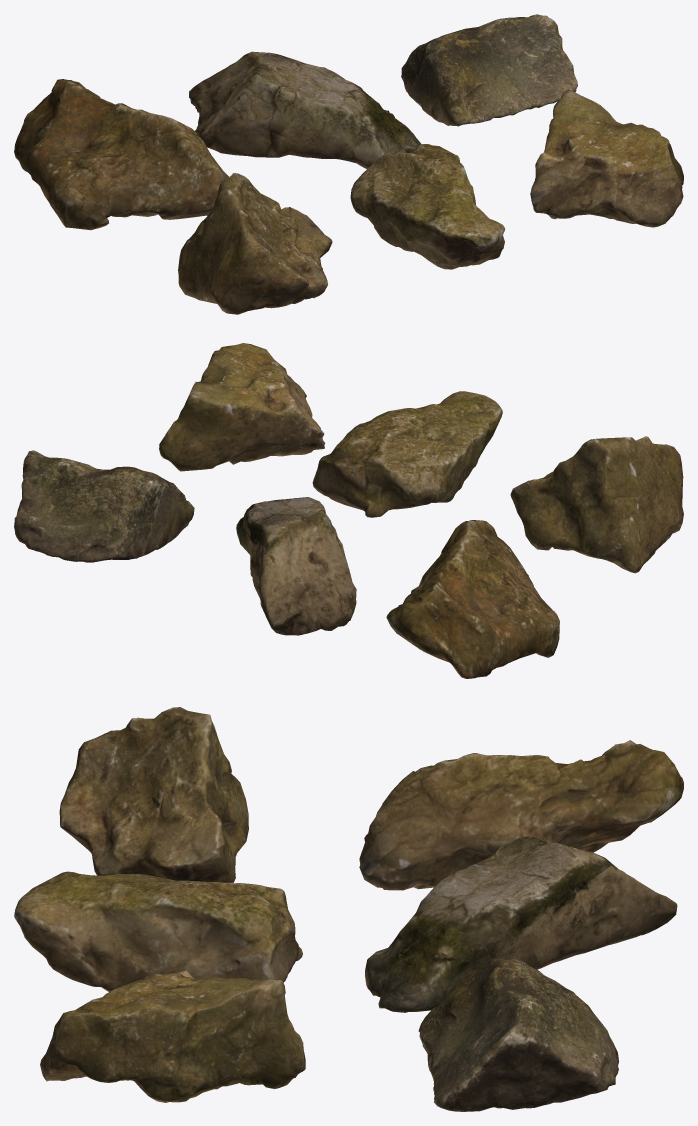
Rendered from organic-rock_moss_set_01.glb.
3 views of the same model, one above another, from view 1: azimuth 30°, elevation 25°; view 2: azimuth 150°, elevation 25°; view 3: azimuth 270°, elevation 25° (orthographic). The views are drawn at different scales.
Parts seen in each view (by area): view 1: rock_moss_set_01_rock01, rock_moss_set_01_rock02, rock_moss_set_01_rock06, rock_moss_set_01_rock04, rock_moss_set_01_rock03, rock_moss_set_01_rock05; view 2: rock_moss_set_01_rock04, rock_moss_set_01_rock01, rock_moss_set_01_rock05, rock_moss_set_01_rock03, rock_moss_set_01_rock06, rock_moss_set_01_rock02; view 3: rock_moss_set_01_rock01, rock_moss_set_01_rock02, rock_moss_set_01_rock05, rock_moss_set_01_rock04, rock_moss_set_01_rock06, rock_moss_set_01_rock03.
Boxes of the visible parts, x1,y1,x2,y2 form: rock_moss_set_01_rock01: (14, 79, 228, 230); rock_moss_set_01_rock02: (189, 51, 421, 169); rock_moss_set_01_rock06: (530, 90, 683, 227); rock_moss_set_01_rock04: (178, 173, 332, 314); rock_moss_set_01_rock03: (401, 14, 577, 126); rock_moss_set_01_rock05: (350, 144, 504, 269); rock_moss_set_01_rock04: (510, 436, 683, 573); rock_moss_set_01_rock01: (386, 520, 559, 678); rock_moss_set_01_rock05: (312, 391, 502, 517); rock_moss_set_01_rock03: (14, 450, 194, 562); rock_moss_set_01_rock06: (159, 343, 325, 471); rock_moss_set_01_rock02: (236, 497, 356, 635); rock_moss_set_01_rock01: (359, 740, 683, 890); rock_moss_set_01_rock02: (365, 836, 677, 1012); rock_moss_set_01_rock05: (14, 871, 302, 991); rock_moss_set_01_rock04: (59, 707, 248, 882); rock_moss_set_01_rock06: (40, 970, 305, 1102); rock_moss_set_01_rock03: (418, 956, 618, 1111).
Size of what is drawn, in the model's own units: 8 by 1.76 by 6.94.
Materials: 1 (1 with a texture image).
